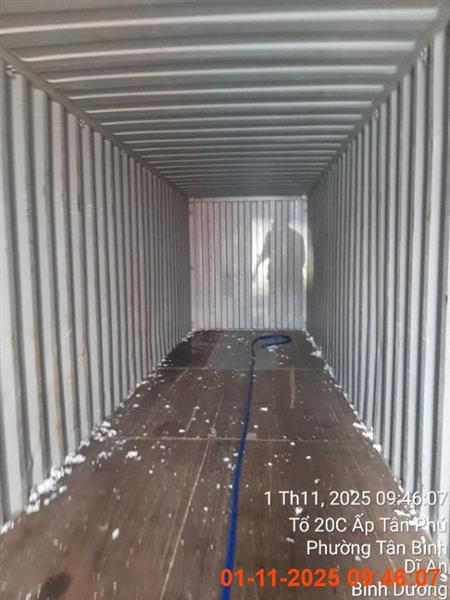hole: (0, 326, 447, 599), (252, 211, 307, 330)
